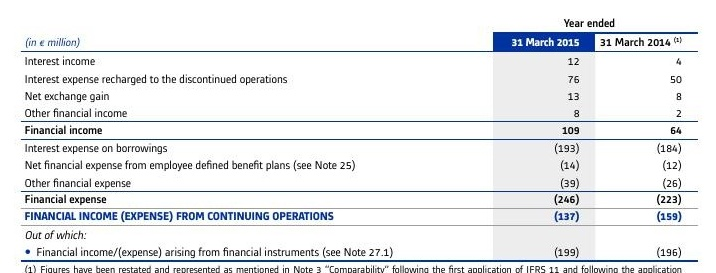table: (0, 0, 716, 273)
